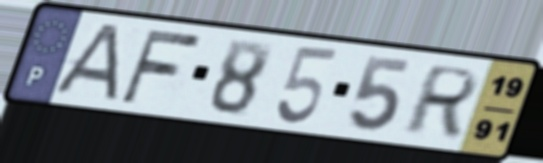5: (346, 52, 418, 133), (273, 45, 341, 127)
8: (206, 38, 273, 118)
A: (45, 22, 125, 105)
F: (116, 27, 207, 106)
R: (397, 62, 485, 139)
